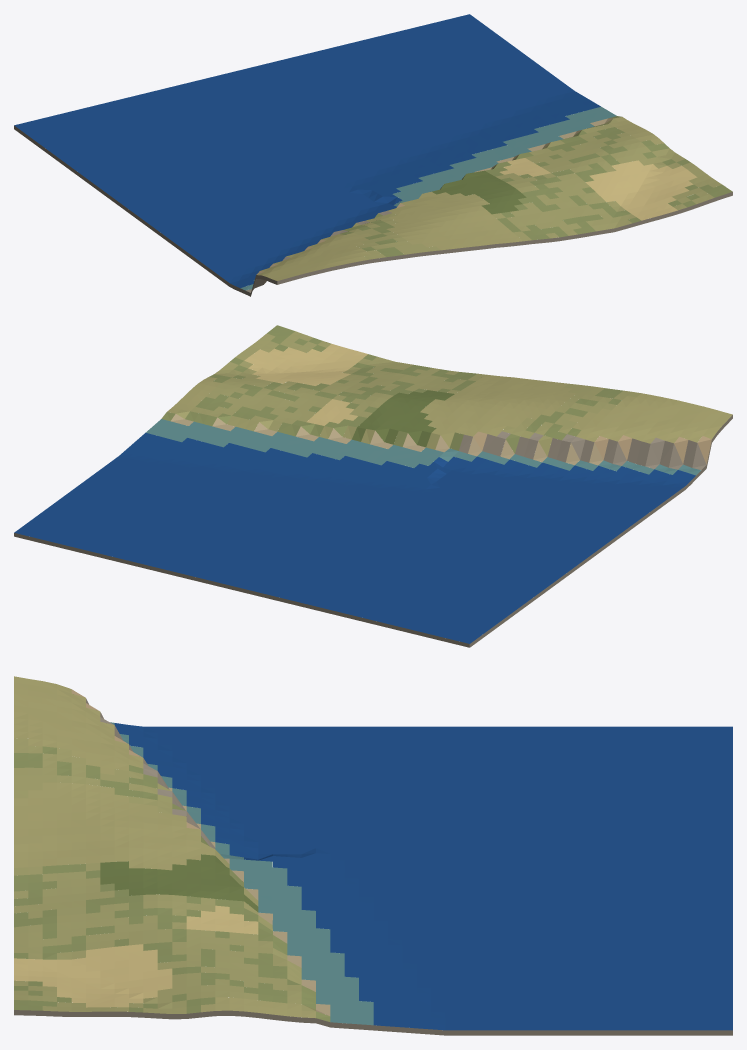
File: parca_-2_-1-uzak.glb
3 views of the same model, one above another, from view 1: azimuth 30°, elevation 25°; view 2: azimuth 150°, elevation 25°; view 3: azimuth 270°, elevation 25° (orthographic). The views are drawn at different scales.
Parts seen in each view (by area): view 1: parca_-2_-1_arazi_uzak; view 2: parca_-2_-1_arazi_uzak; view 3: parca_-2_-1_arazi_uzak.
Boxes of the visible parts, <box> form: parca_-2_-1_arazi_uzak: <box>14,14,732,296</box>; parca_-2_-1_arazi_uzak: <box>14,325,732,647</box>; parca_-2_-1_arazi_uzak: <box>14,676,732,1035</box>.
Bounding box in the file's own units: 1000 × 87.04 × 1000.
